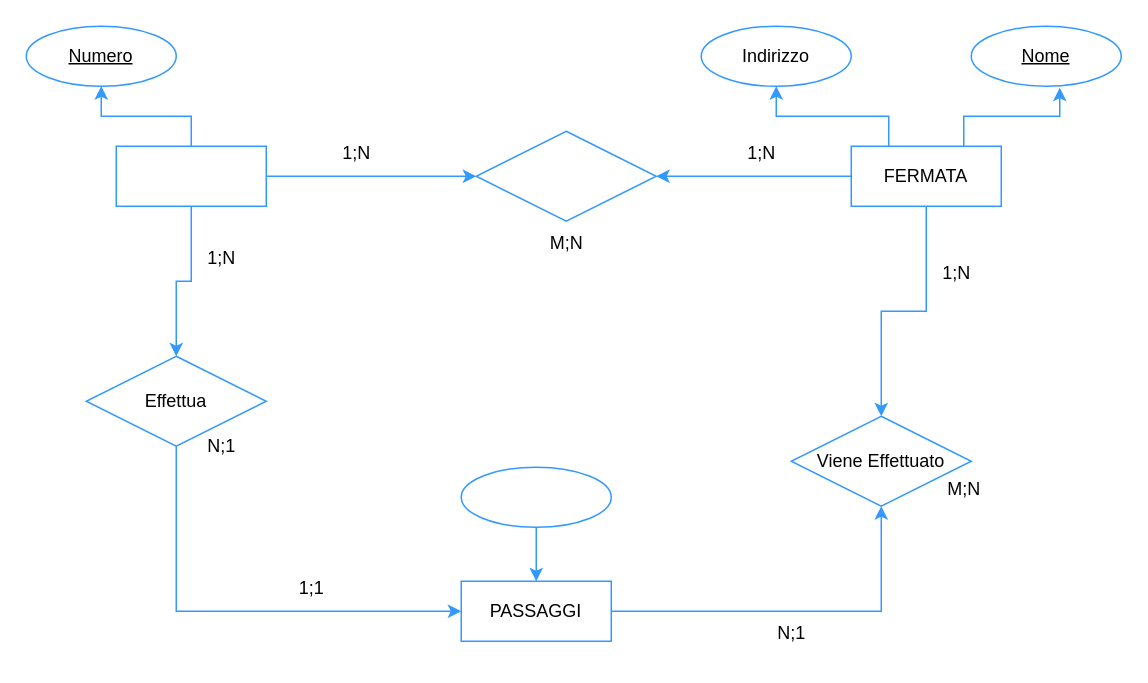
Some shapes in this 1148 by 683 pixel diagram are drawn without their labels. Each missing label, with the centre of its shape:
Composta: (x=565, y=175)
LINEA: (x=190, y=175)
Ora: (x=535, y=496)
